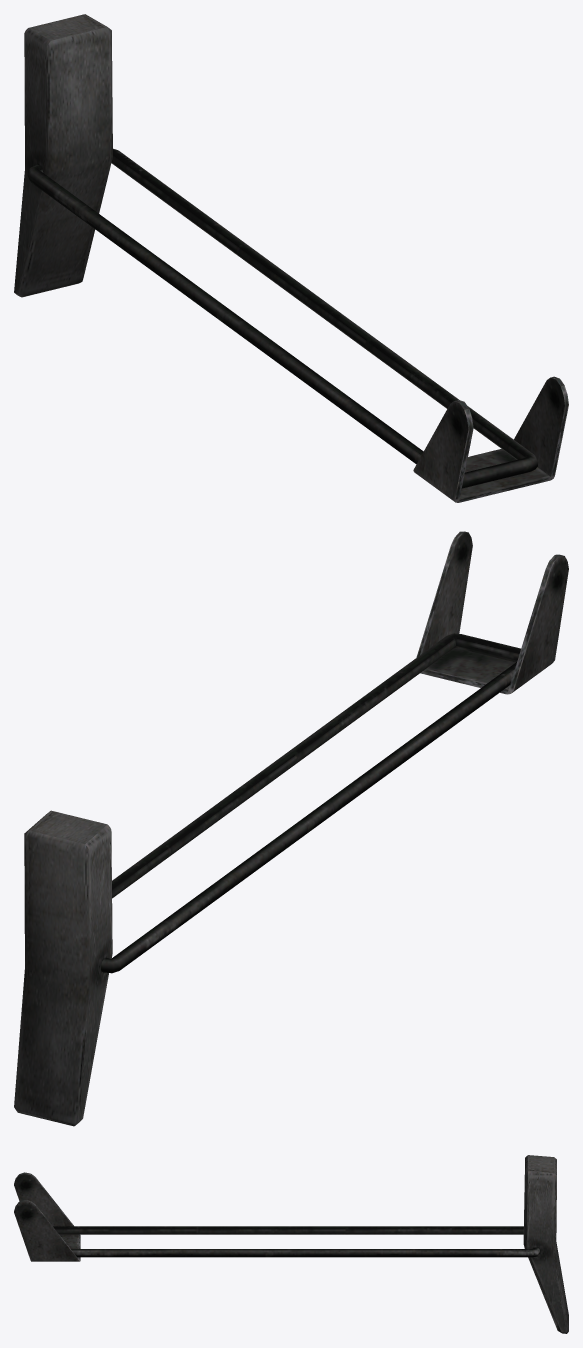
The model's file is butt1.obj.
3 views of the same model, one above another, from view 1: azimuth 30°, elevation 25°; view 2: azimuth 150°, elevation 25°; view 3: azimuth 270°, elevation 25° (orthographic). The views are drawn at different scales.
Visible parts, largest first — view 1: wpn_ubludok; view 2: wpn_ubludok; view 3: wpn_ubludok.
Part boxes in pixels (left/top/right/bottom): wpn_ubludok: left=14, top=14, right=568, bottom=502; wpn_ubludok: left=14, top=531, right=568, bottom=1126; wpn_ubludok: left=14, top=1155, right=568, bottom=1333.
Bounding box in the file's own units: 0.0352 × 0.0934 × 0.2886.
